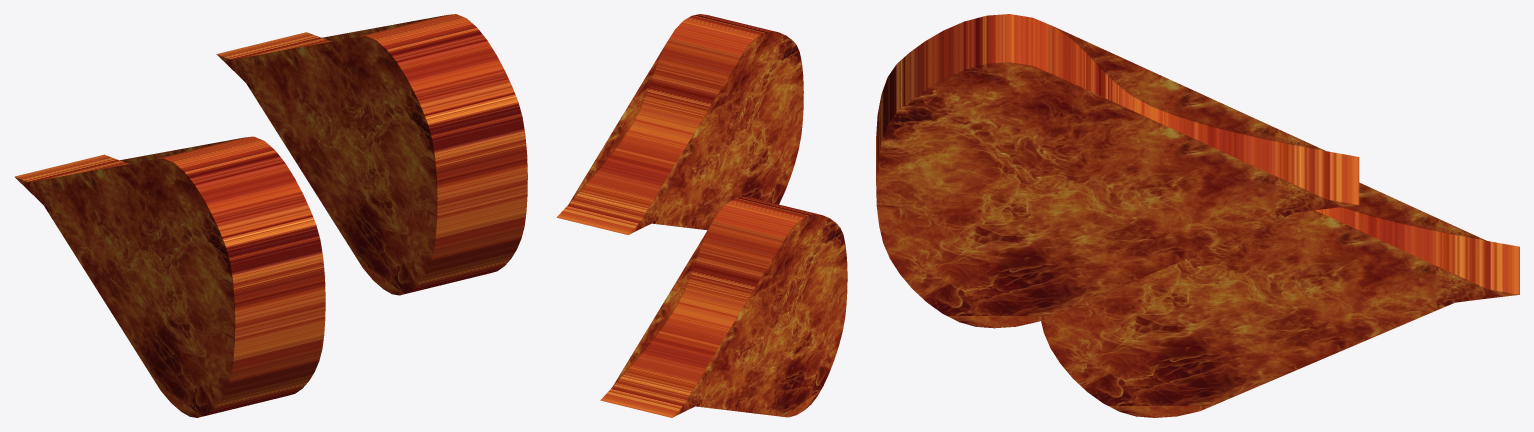
Rendered from kazumisFireball.FBX.
3 views of the same model, side by side, from view 1: azimuth 30°, elevation 25°; view 2: azimuth 150°, elevation 25°; view 3: azimuth 270°, elevation 25° (orthographic). The views are drawn at different scales.
Parts seen in each view (by area): view 1: Feuer1, Feuer002; view 2: Feuer1, Feuer002; view 3: Feuer002, Feuer1.
Part boxes in pixels (x1,y1,x2,y2): Feuer1: [14, 136, 325, 417]; Feuer002: [216, 14, 527, 295]; Feuer1: [600, 197, 847, 417]; Feuer002: [557, 14, 803, 234]; Feuer002: [876, 14, 1359, 328]; Feuer1: [1041, 182, 1519, 417].
Size of the model in its own units: 4.85 by 8.22 by 11.3.
Materials: 1 (1 with a texture image).
